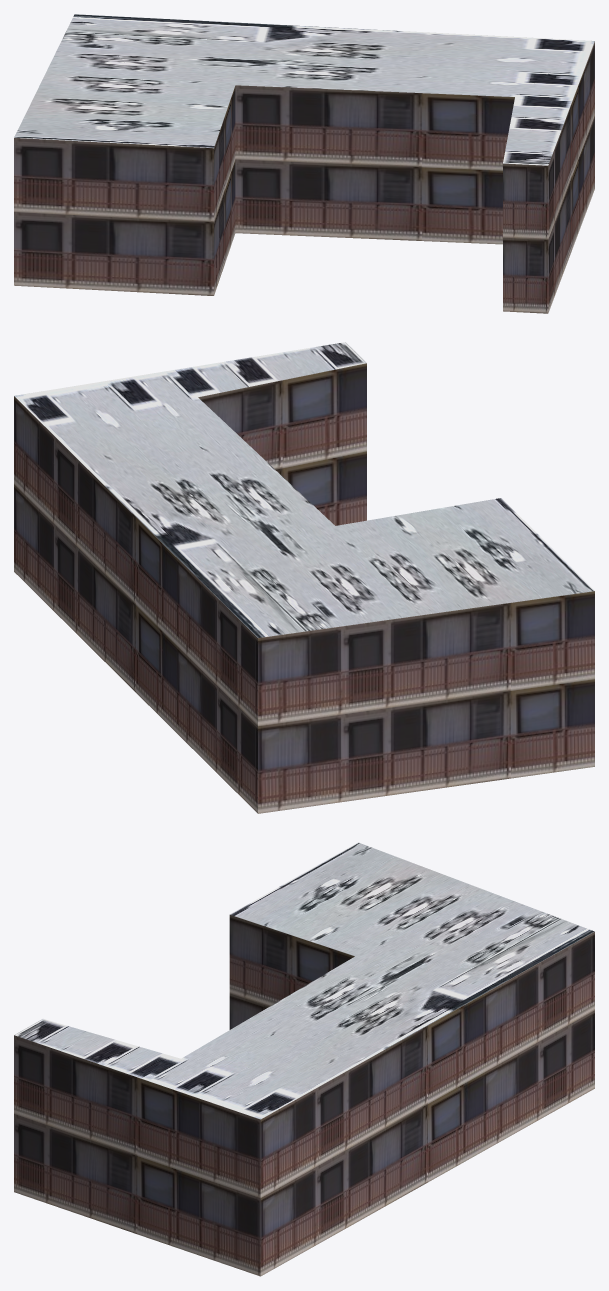
Rendered from ResTex__4835.fbx.
The picture shows the model from 3 angles, top to bottom: view 1: azimuth 30°, elevation 25°; view 2: azimuth 150°, elevation 25°; view 3: azimuth 270°, elevation 25°; orthographic projection. The views are drawn at different scales.
Visible parts, largest first — view 1: CityEngineMaterial_6_m, CityEngineMaterial_8_m; view 2: CityEngineMaterial_6_m, CityEngineMaterial_8_m; view 3: CityEngineMaterial_6_m, CityEngineMaterial_8_m.
Boxes of the visible parts, x1,y1,x2,y2 form: CityEngineMaterial_6_m: [14, 41, 594, 313]; CityEngineMaterial_8_m: [14, 14, 594, 165]; CityEngineMaterial_6_m: [14, 363, 594, 813]; CityEngineMaterial_8_m: [14, 342, 594, 637]; CityEngineMaterial_6_m: [14, 915, 594, 1276]; CityEngineMaterial_8_m: [14, 842, 594, 1119].
Size of the model in its own units: 22.71 by 6 by 20.12.
2 materials, 2 textured.
